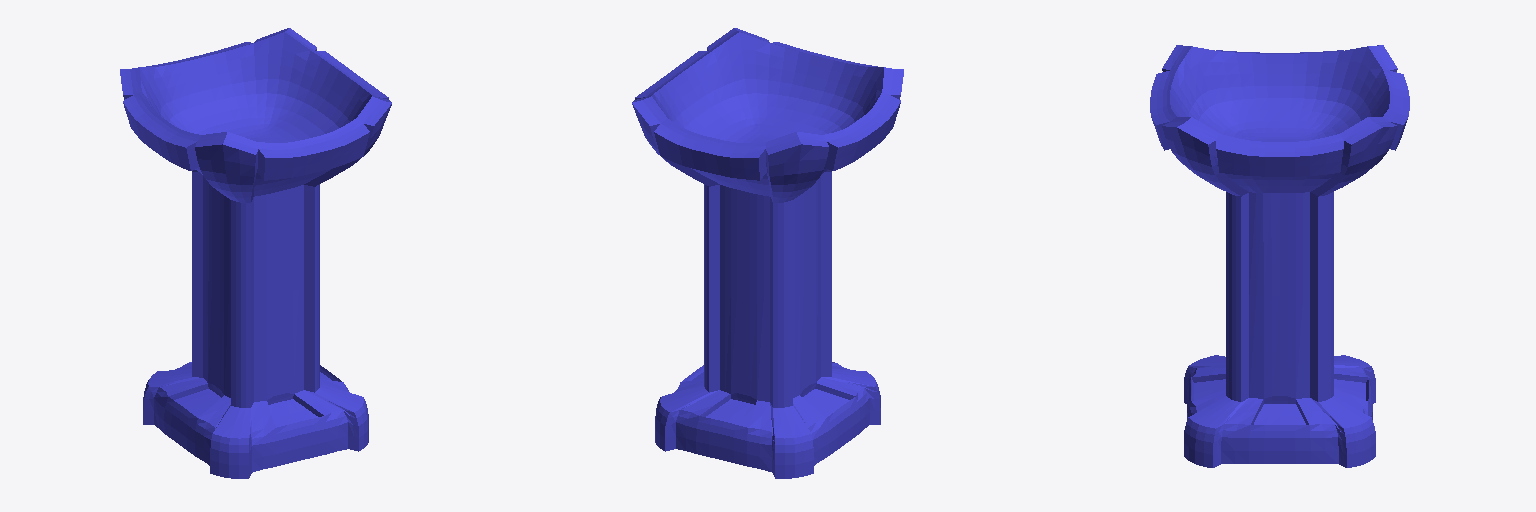
The model's file is HighPolyBurner.obj.
3 views of the same model, side by side, from view 1: azimuth 30°, elevation 25°; view 2: azimuth 150°, elevation 25°; view 3: azimuth 270°, elevation 25° (orthographic).
Visible parts, largest first — view 1: HighPoly; view 2: HighPoly; view 3: HighPoly.
Part boxes in pixels (bbox=[...]): HighPoly: bbox=[120, 28, 391, 478]; HighPoly: bbox=[632, 28, 903, 478]; HighPoly: bbox=[1150, 45, 1409, 467].
Size of the model in its own units: 52.82 by 82.38 by 55.57.